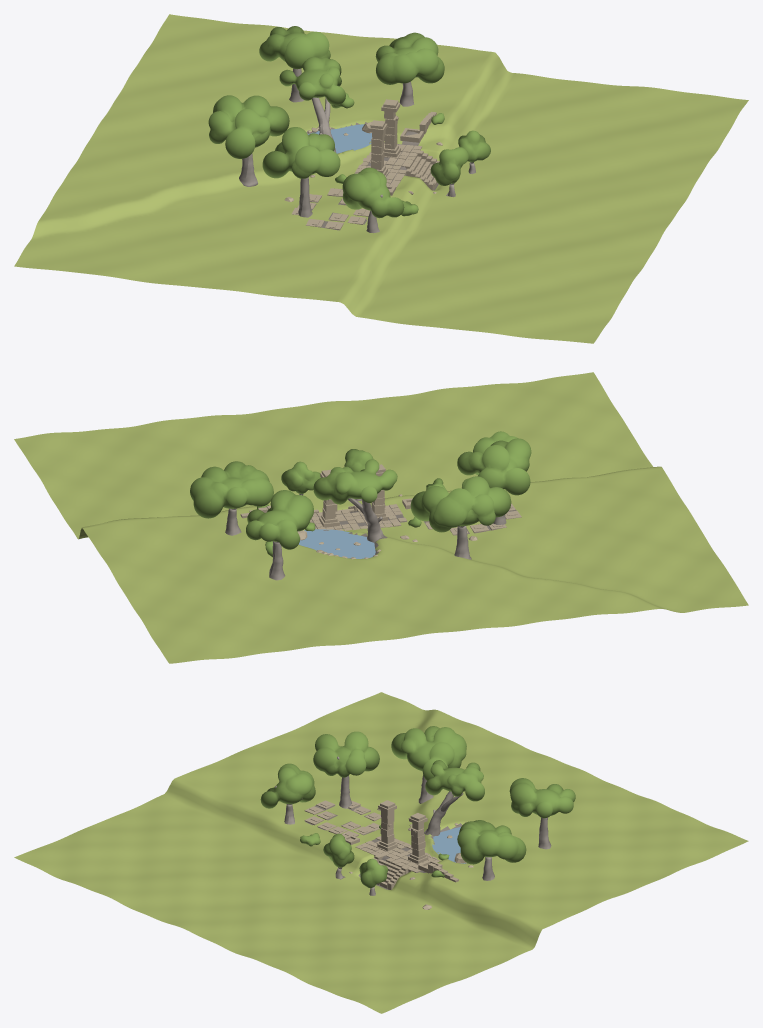
File: ruins.glb
3 views of the same model, one above another, from view 1: azimuth 30°, elevation 25°; view 2: azimuth 150°, elevation 25°; view 3: azimuth 270°, elevation 25° (orthographic). The views are drawn at different scales.
Parts seen in each view (by area): view 1: Ground, TreeCCrown, TreeFCrown, TreeDCrown, TreeGCrown, TreeECrown, PondCrown, TreeACrown, Water, TreeBCrown; view 2: Ground, TreeCCrown, TreeDCrown, TreeFCrown, TreeGCrown, PondCrown, Water, TreeBCrown, PondTrunk; view 3: Ground, TreeCCrown, TreeFCrown, TreeDCrown, TreeGCrown, PondCrown, TreeECrown, TreeACrown, Water, TreeBCrown.
Part boxes in pixels (left/top/right/bottom): Ground: left=14, top=14, right=748, bottom=343; TreeCCrown: left=208, top=95, right=289, bottom=158; TreeFCrown: left=262, top=127, right=340, bottom=178; TreeDCrown: left=375, top=32, right=444, bottom=84; TreeGCrown: left=259, top=26, right=330, bottom=69; TreeECrown: left=342, top=167, right=404, bottom=218; PondCrown: left=279, top=57, right=345, bottom=105; TreeACrown: left=430, top=147, right=468, bottom=185; Water: left=308, top=124, right=372, bottom=153; TreeBCrown: left=458, top=130, right=490, bottom=162; Ground: left=14, top=372, right=748, bottom=663; TreeCCrown: left=410, top=476, right=511, bottom=532; TreeDCrown: left=190, top=461, right=273, bottom=518; TreeFCrown: left=457, top=438, right=531, bottom=495; TreeGCrown: left=246, top=490, right=313, bottom=549; PondCrown: left=313, top=459, right=397, bottom=504; Water: left=298, top=529, right=375, bottom=558; TreeBCrown: left=281, top=461, right=320, bottom=493; PondTrunk: left=361, top=499, right=385, bottom=542; Ground: left=14, top=692, right=748, bottom=1013; TreeCCrown: left=391, top=726, right=466, bottom=780; TreeFCrown: left=313, top=731, right=379, bottom=777; TreeDCrown: left=457, top=820, right=526, bottom=864; TreeGCrown: left=509, top=778, right=575, bottom=818; PondCrown: left=425, top=760, right=484, bottom=801; TreeECrown: left=260, top=763, right=315, bottom=808; TreeACrown: left=323, top=833, right=354, bottom=867; Water: left=432, top=827, right=466, bottom=863; TreeBCrown: left=359, top=858, right=388, bottom=887.
Size of the model in its own units: 153 by 20.24 by 153.
